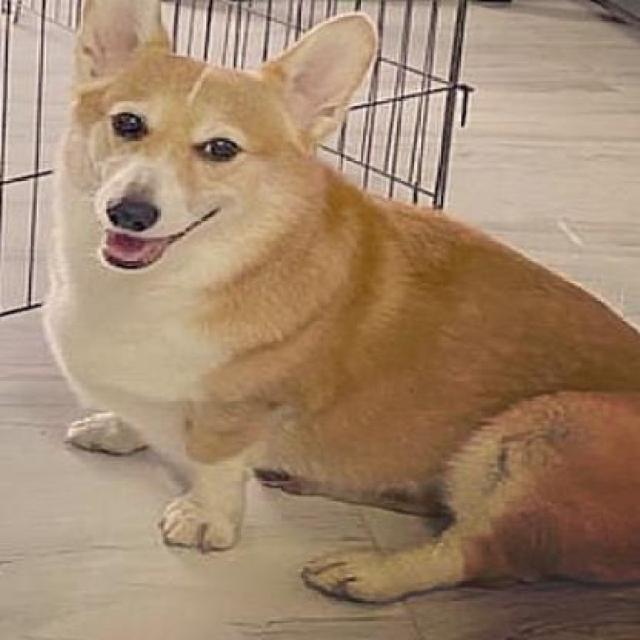Dog: (43, 1, 639, 608)
